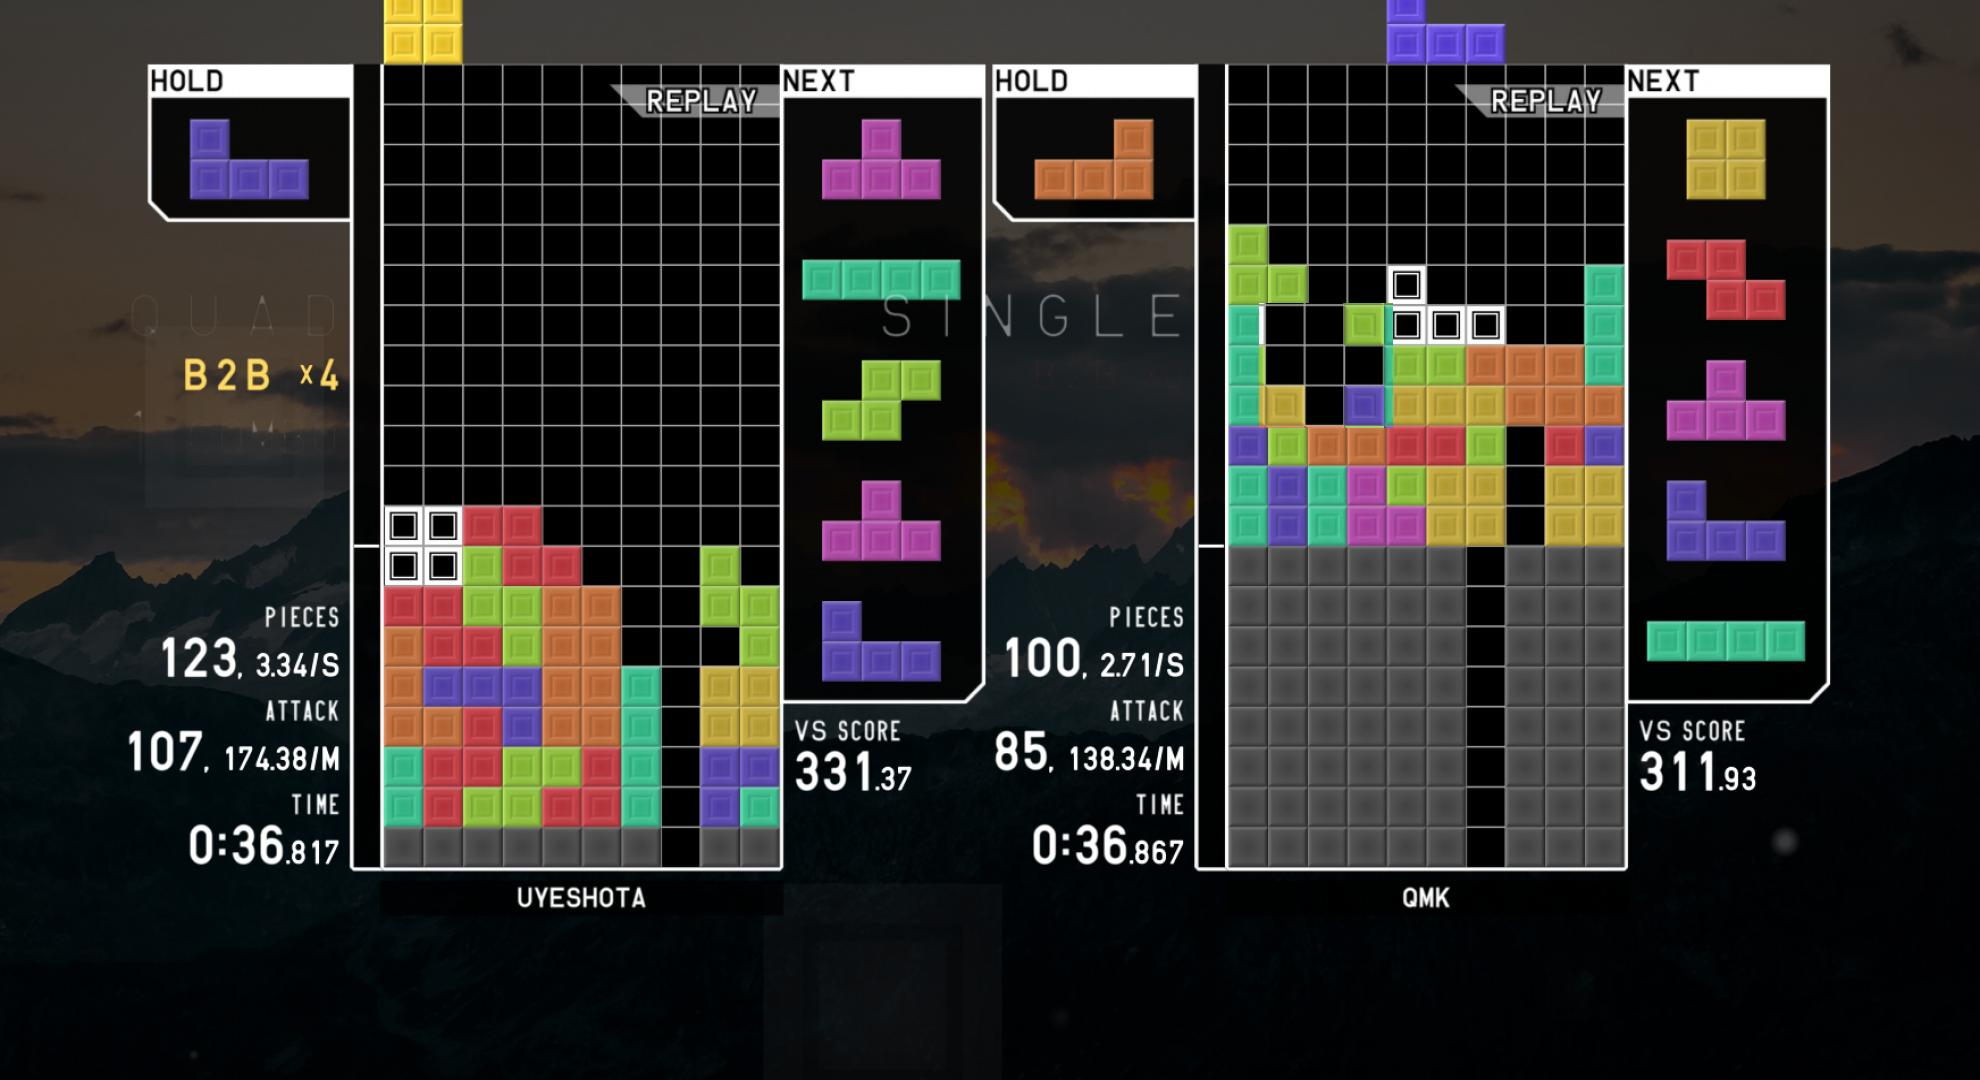tspin: (1259, 303, 1394, 428), (621, 584, 742, 709)
